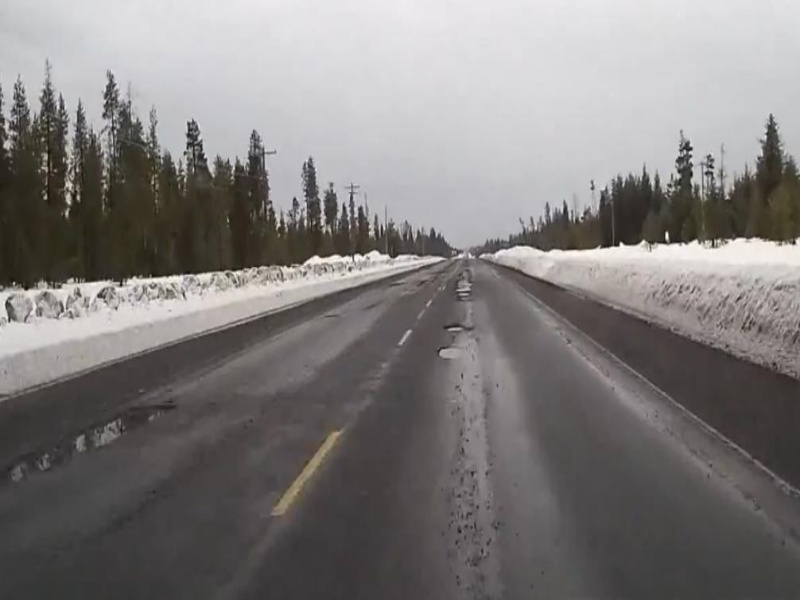pothole: (1, 398, 177, 486), (434, 343, 468, 361), (441, 320, 471, 334)
